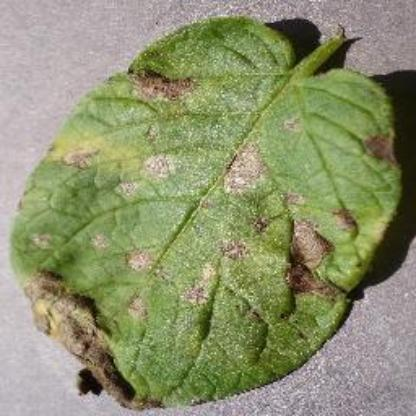Early-Blight: (13, 15, 409, 408)
